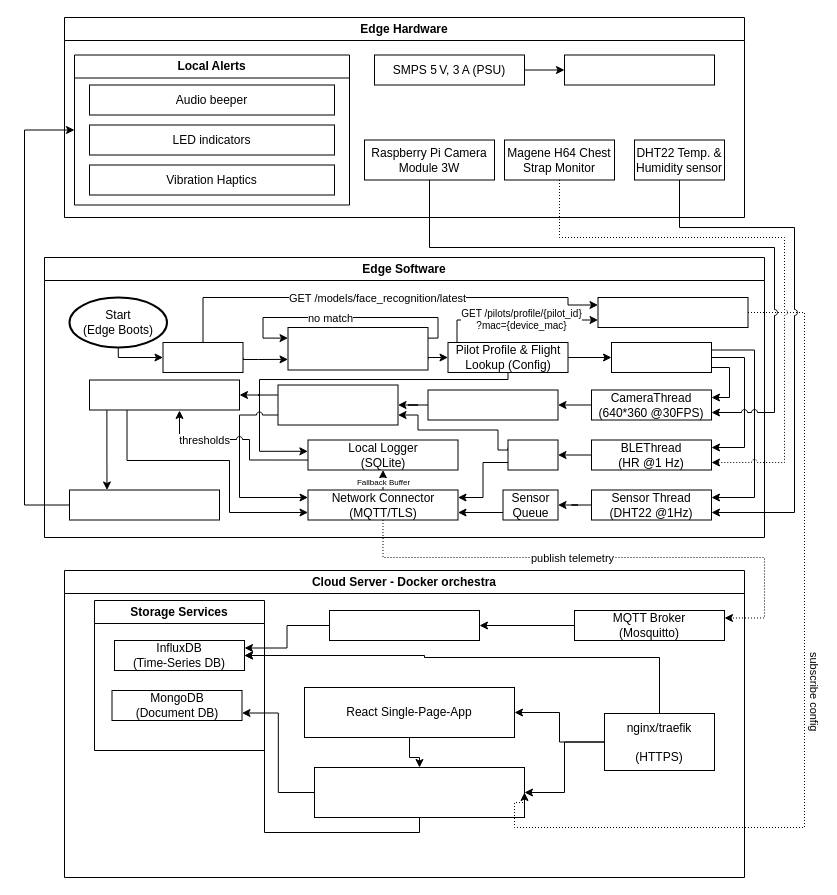
Some shapes in this 837 by 895 pixel diagram are drawn without their labels. The shapes that lost their labels are listed below. From the top down, each one's centre as x and y in pixels, then its label:
At point (639, 69): "Rasberry Pi 4B (8GB)".
At point (672, 312): "HTTPS Client".
At point (202, 357): "Download Face Model".
At point (357, 348): "Pilot Face Recognition (5FPS, Blue LED flicker)".
At point (661, 357): "Spawn Threads".
At point (164, 394): "Alert Predictor (Personalized Thresholds)".
At point (337, 404): "Inference Engine (Blink, Yawn, Fusion)".
At point (492, 404): "Preprocessing (Face/Eye/Mouth Crop)".
At point (532, 454): "HR Queue".
At point (144, 504): "Alert Manager (LED, Motor, Buzzer)".
At point (404, 625): "Telegraf (MQTT InfluxDB)".
At point (419, 792): "Go backend (REST APIs)".
